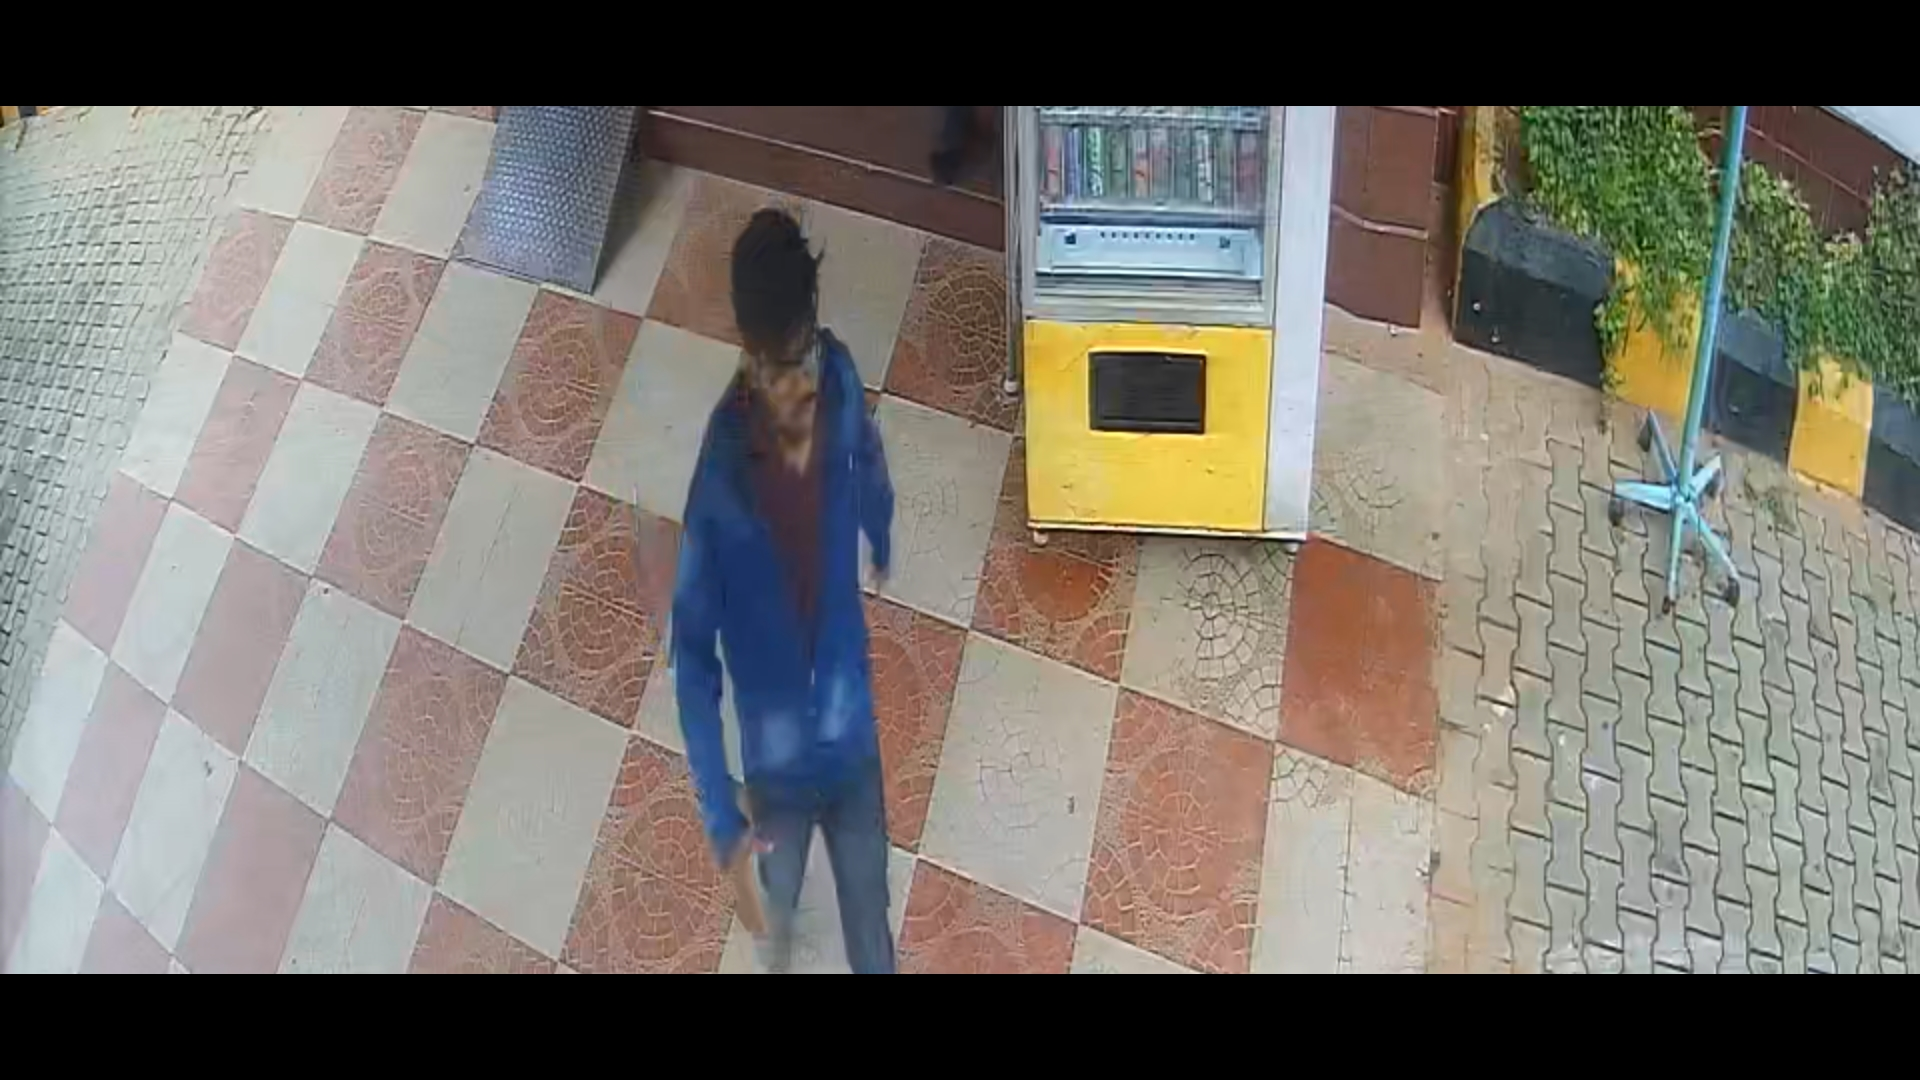intruder: (651, 181, 981, 976)
